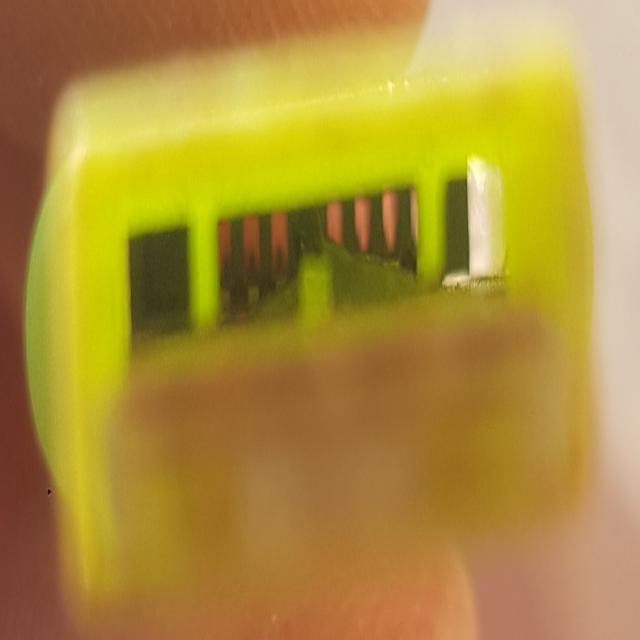electronic: (22, 24, 597, 624)
